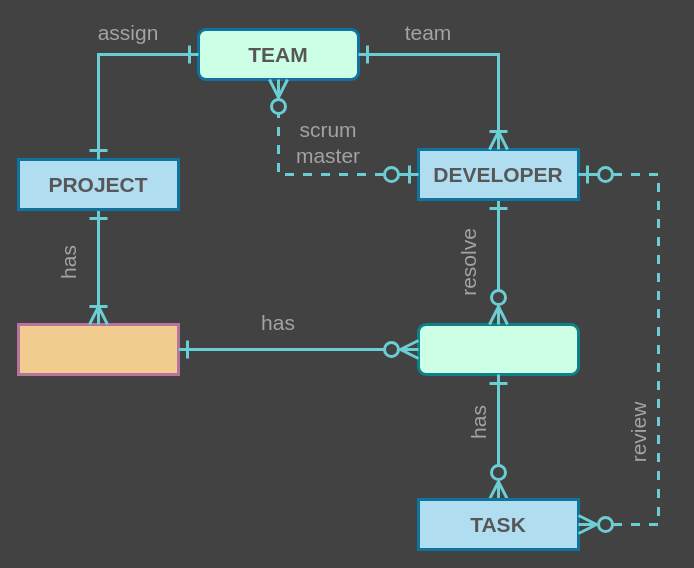
The diagram is 694 pixels wide and 568 high, and some of its shapes have lost their labels. Here are the shapes that lost their labels. From the top down, the box of each, then its label:
(16, 322, 180, 376): EPIC
(416, 322, 580, 376): STORY
